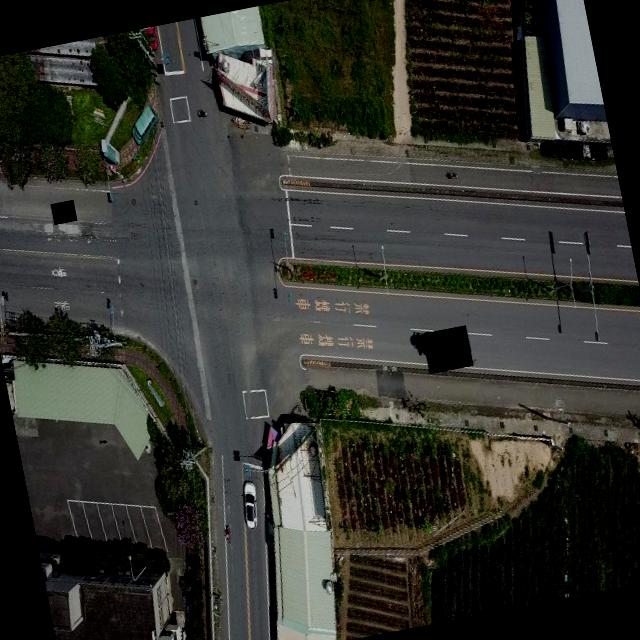bike: (192, 104, 210, 121), (446, 169, 460, 182), (223, 523, 232, 542)
car: (126, 98, 163, 150), (238, 478, 264, 530), (143, 26, 162, 56)
